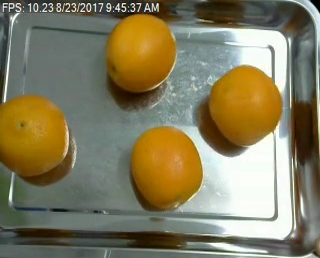Orange: (208, 64, 283, 146), (131, 126, 203, 210), (104, 13, 177, 92), (1, 95, 69, 175)
